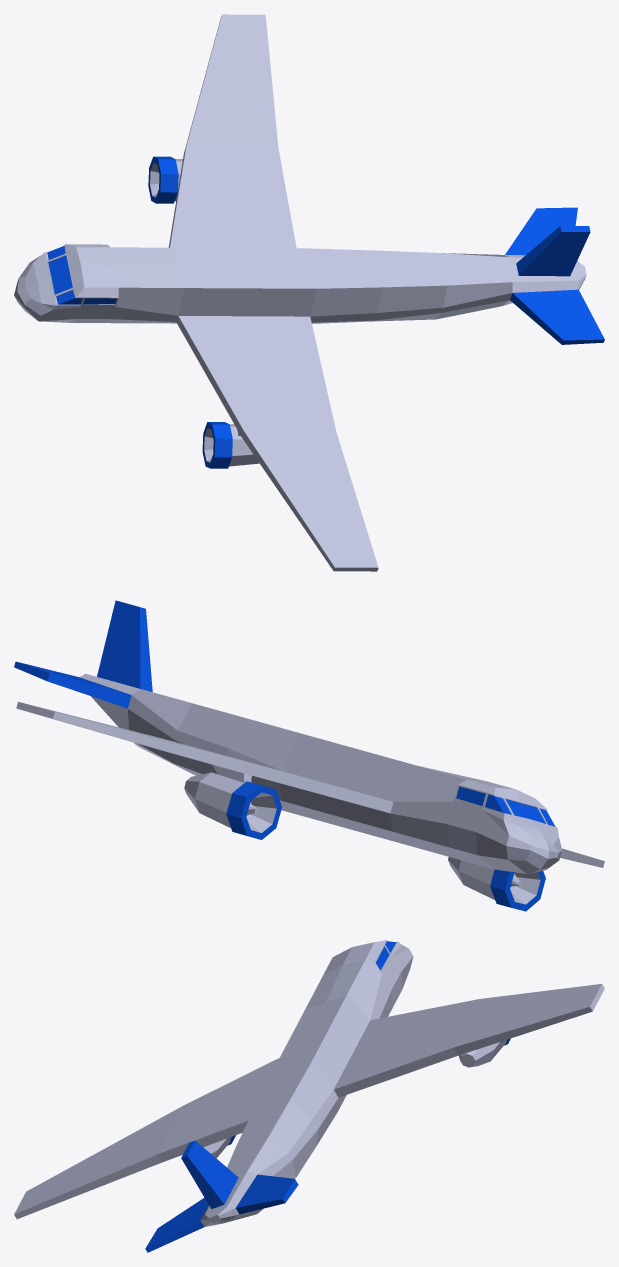
File: AirPlaneTakeOff.glb
3 views of the same model, one above another, from view 1: azimuth 30°, elevation 25°; view 2: azimuth 150°, elevation 25°; view 3: azimuth 270°, elevation 25° (orthographic). The views are drawn at different scales.
Parts seen in each view (by area): view 1: airplane; view 2: airplane; view 3: airplane.
Part boxes in pixels (x1=…): airplane: x1=14, y1=14, x2=604, y2=571; airplane: x1=14, y1=600, x2=604, y2=911; airplane: x1=14, y1=940, x2=604, y2=1252.
Size of the model in its own units: 3.93 by 2.26 by 3.99.
